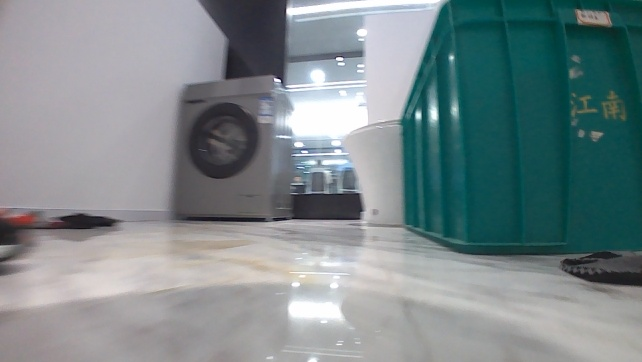socks: (557, 247, 641, 293)
toilet: (334, 116, 404, 228)
washing_machine: (171, 73, 295, 220)
